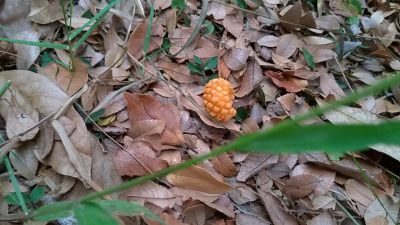eggs: (201, 76, 239, 126)
